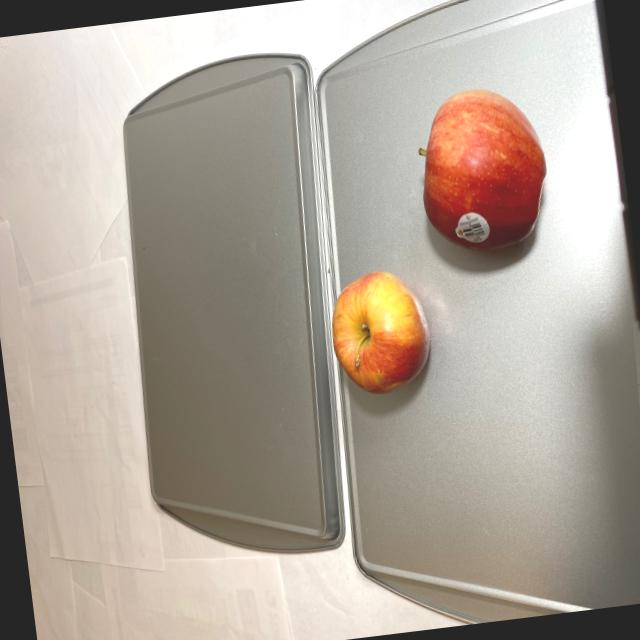apple: (400, 81, 554, 262), (324, 260, 437, 406)
